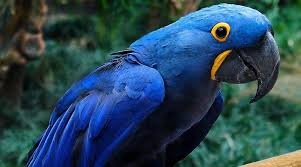guacamaya: (35, 2, 281, 162)
